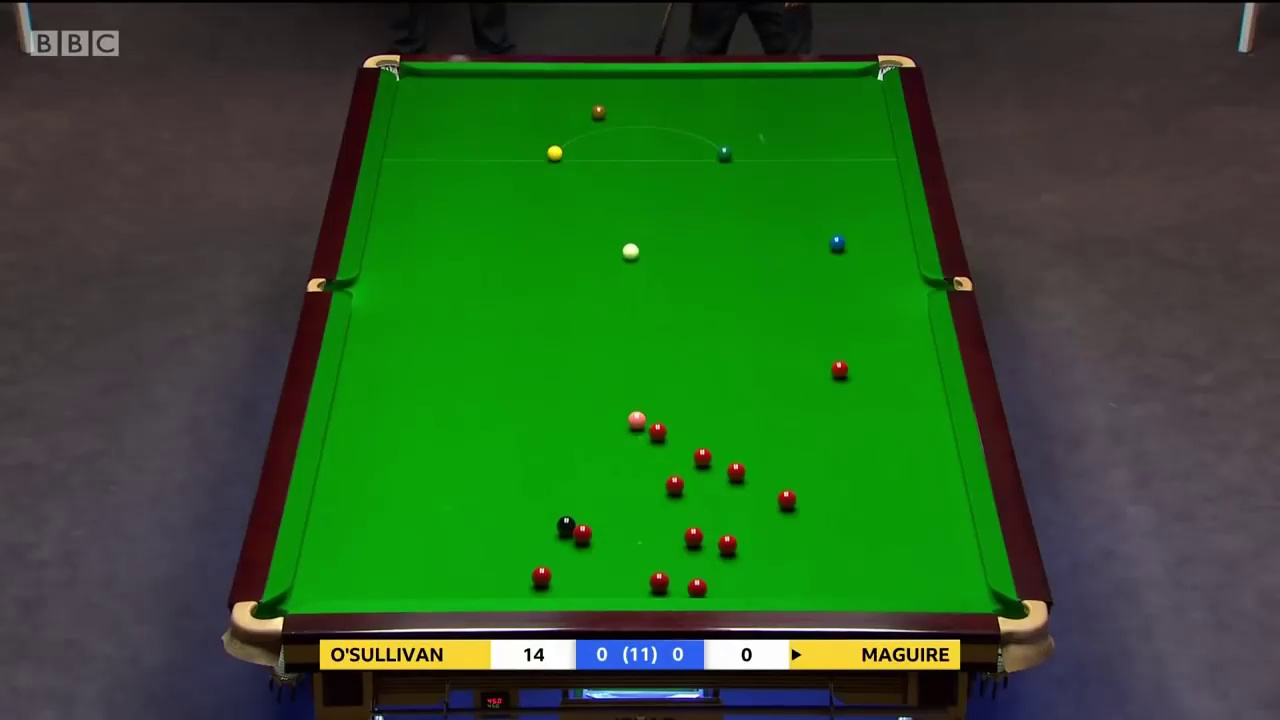black: (557, 517, 574, 537)
blue: (828, 234, 846, 253)
brown: (590, 105, 608, 120)
green: (714, 145, 735, 163)
pink: (626, 412, 646, 430)
red: (662, 473, 685, 499), (571, 522, 594, 545), (530, 566, 551, 588), (649, 572, 671, 593), (683, 528, 706, 547), (776, 489, 798, 508), (718, 535, 736, 557), (829, 360, 849, 379), (650, 422, 668, 443), (687, 579, 708, 597), (692, 449, 712, 467), (726, 463, 746, 481)
white: (621, 242, 641, 260)
yellow: (545, 144, 564, 161)
